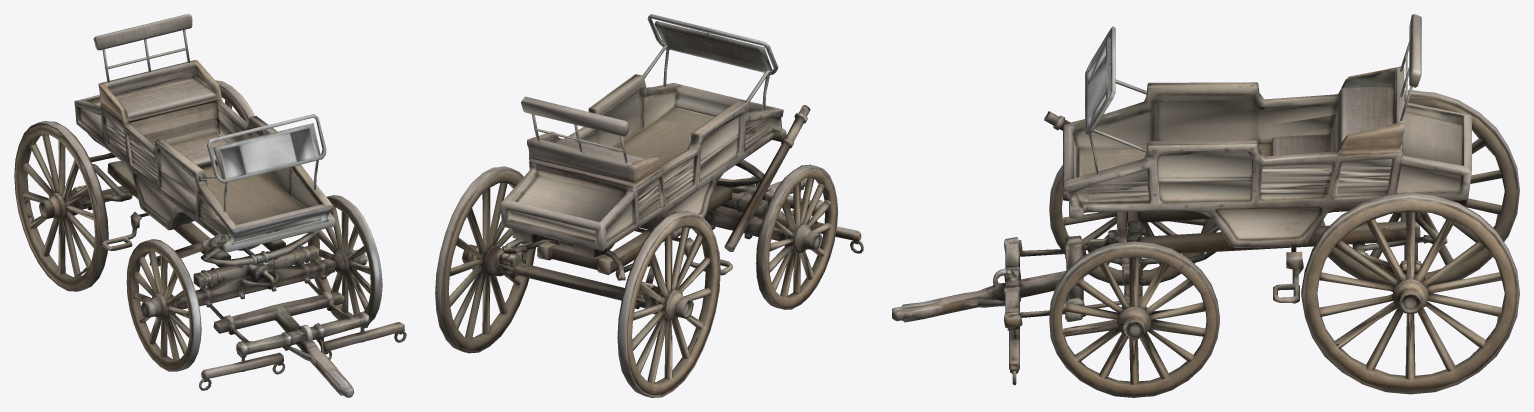
The model's file is Carrusel 3d model.glb.
3 views of the same model, side by side, from view 1: azimuth 30°, elevation 25°; view 2: azimuth 150°, elevation 25°; view 3: azimuth 270°, elevation 25° (orthographic). The views are drawn at different scales.
Parts seen in each view (by area): view 1: tripo_node_7247f2e3-e27f-471b-b862-56a51a2c5622; view 2: tripo_node_7247f2e3-e27f-471b-b862-56a51a2c5622; view 3: tripo_node_7247f2e3-e27f-471b-b862-56a51a2c5622.
Boxes of the visible parts, <box> form: tripo_node_7247f2e3-e27f-471b-b862-56a51a2c5622: <box>14,14,406,397</box>; tripo_node_7247f2e3-e27f-471b-b862-56a51a2c5622: <box>435,14,863,397</box>; tripo_node_7247f2e3-e27f-471b-b862-56a51a2c5622: <box>892,14,1519,397</box>.
Bounding box in the file's own units: 0.4941 × 0.5151 × 0.9786.
1 material, 1 textured.
